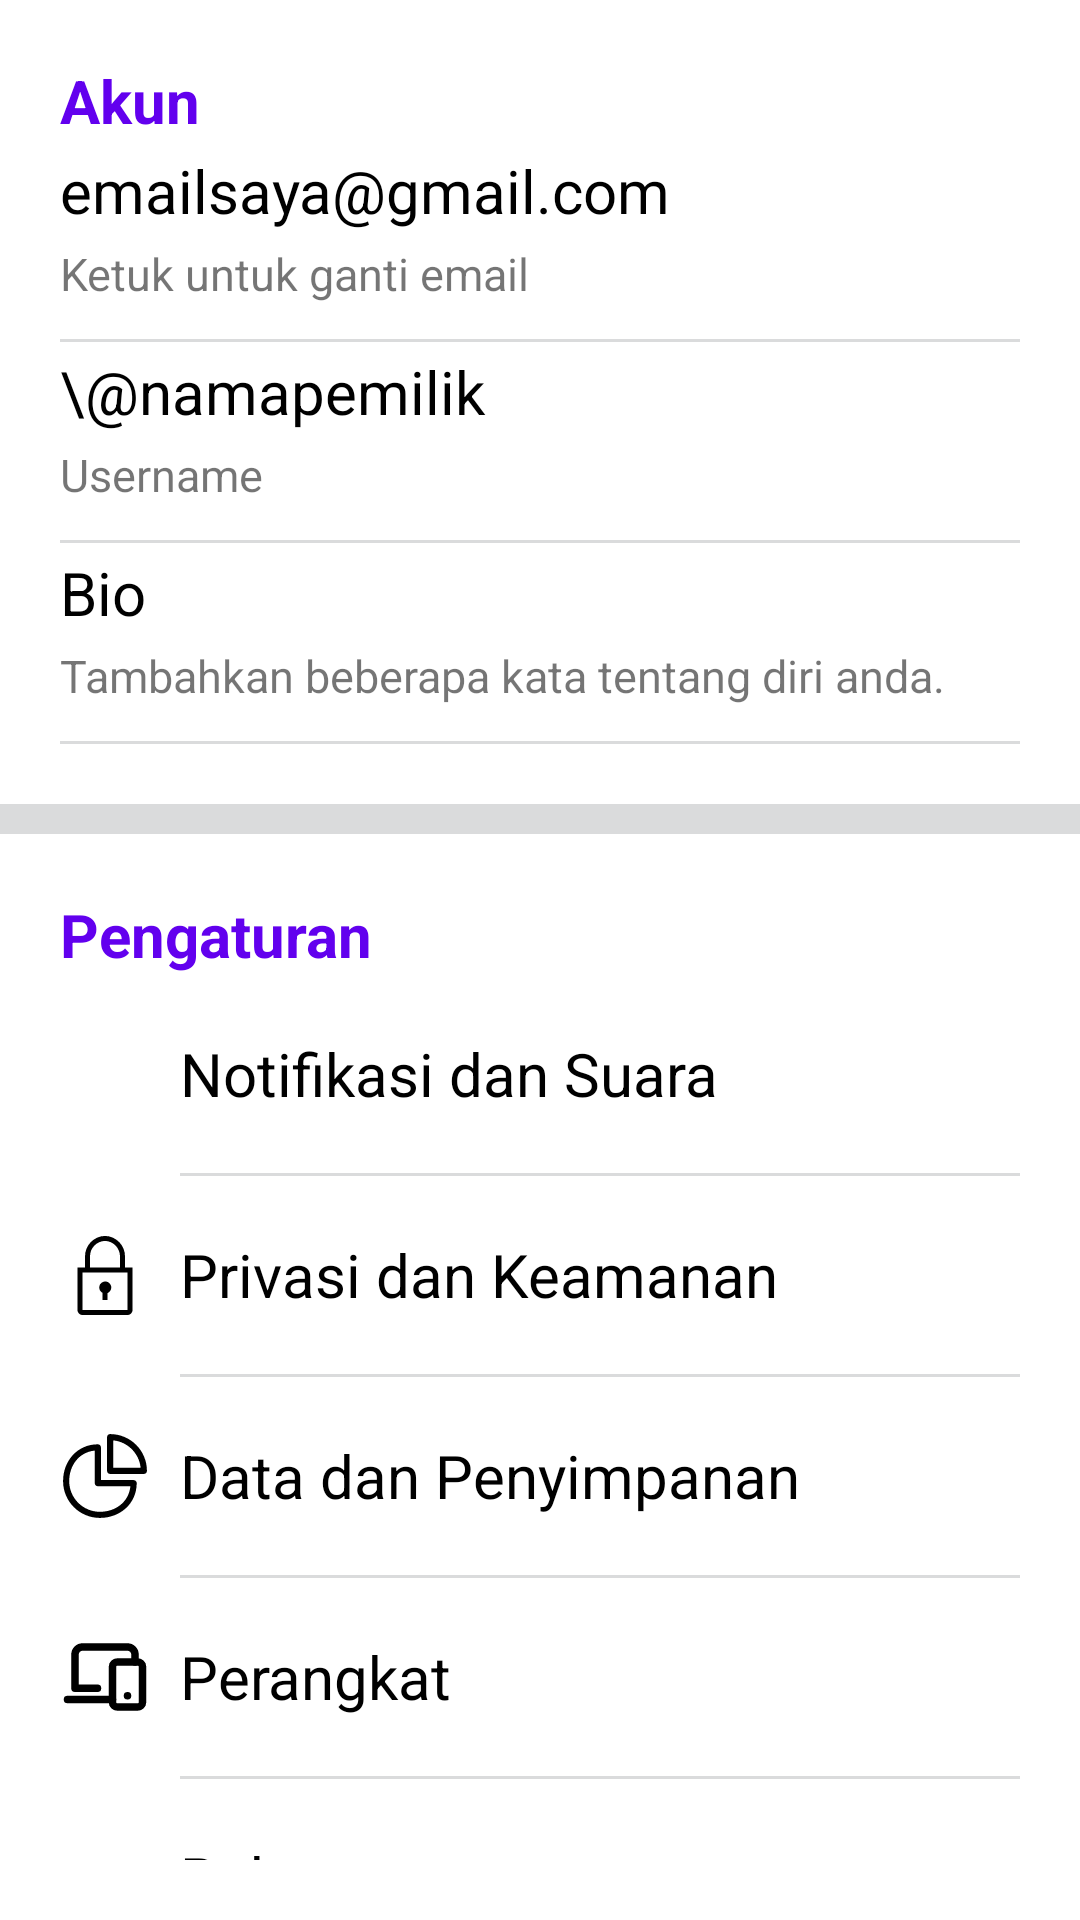

Icon bounding boxes for this 1080 × 1920 phone screenshot, format (x1, y1, x2, y2):
gembok: (77, 1236, 133, 1315)
